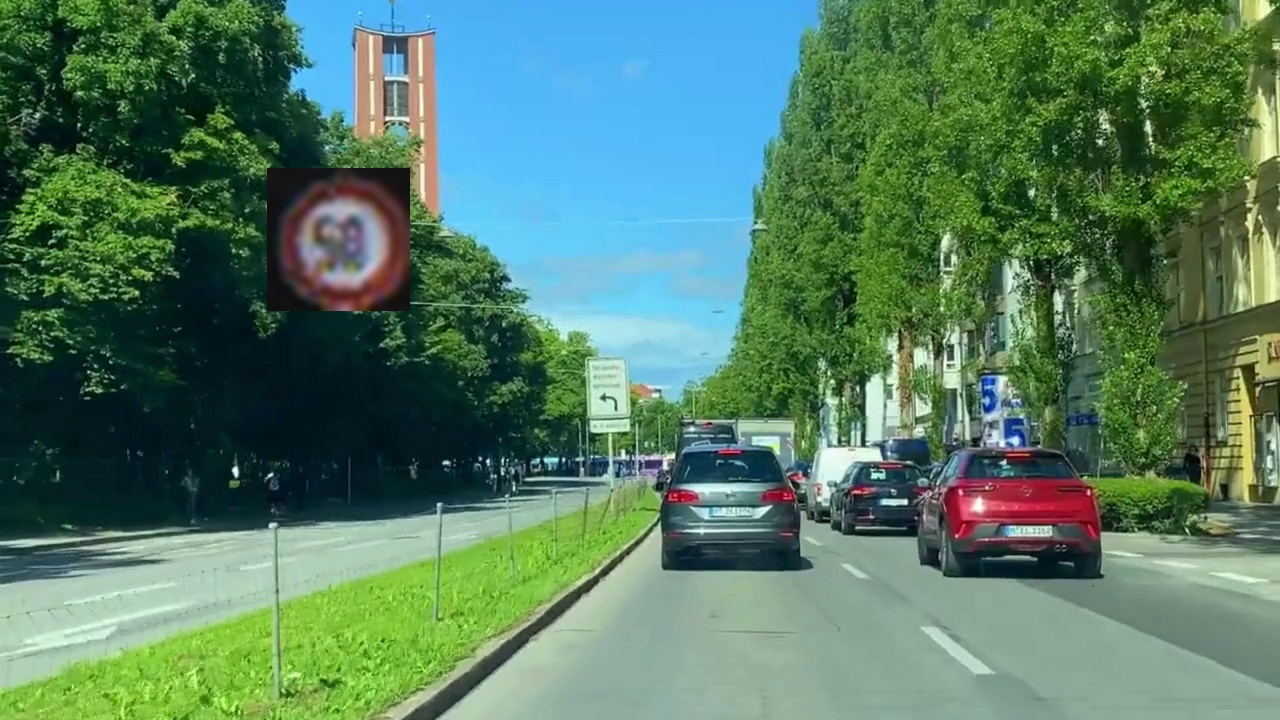Speed 50: (267, 168, 410, 311)
